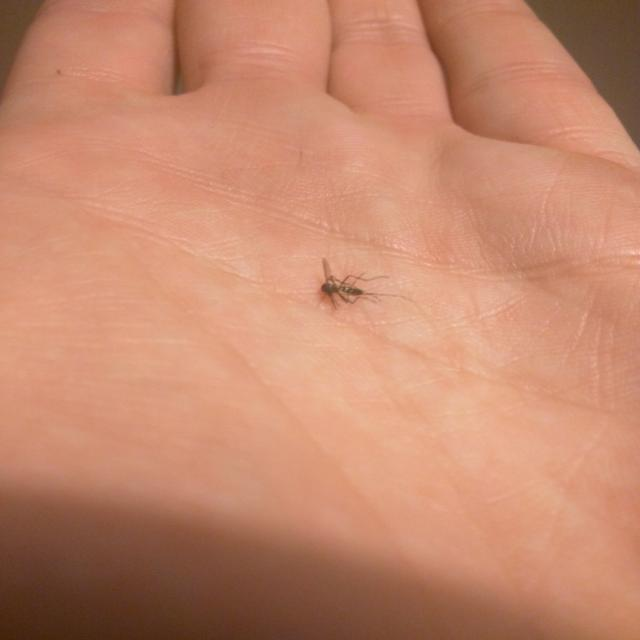albopictus: (310, 253, 398, 313)
